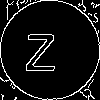Z: (25, 25, 55, 71)
